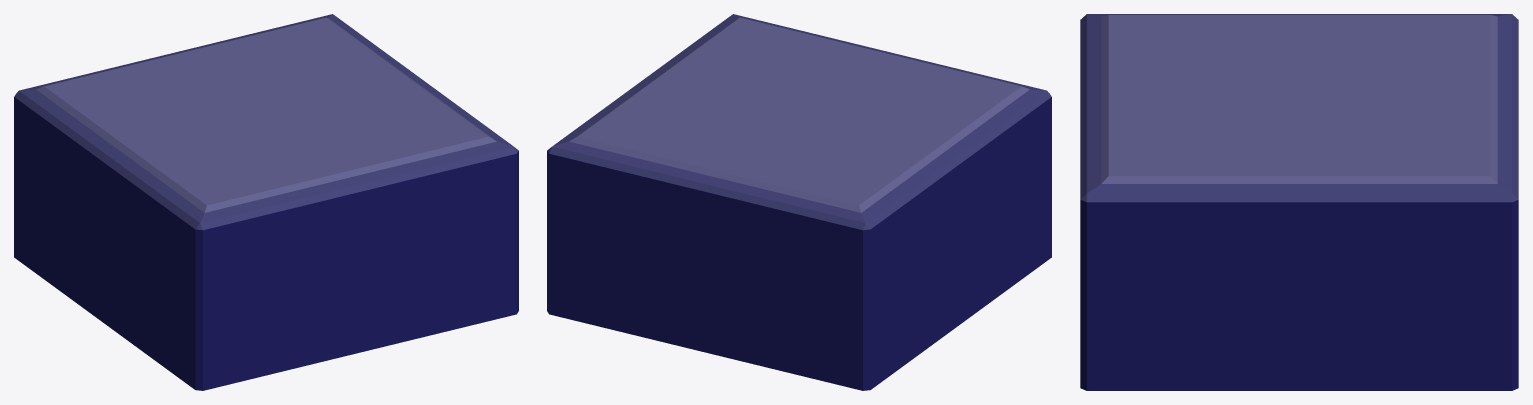
The model's file is Tile-Space-1.fbx.
3 views of the same model, side by side, from view 1: azimuth 30°, elevation 25°; view 2: azimuth 150°, elevation 25°; view 3: azimuth 270°, elevation 25° (orthographic). The views are drawn at different scales.
Visible parts, largest first — view 1: Tile01; view 2: Tile01; view 3: Tile01.
Boxes of the visible parts, box(x1,y1,x2,y2) form: Tile01: box(14, 14, 518, 390); Tile01: box(547, 14, 1051, 390); Tile01: box(1080, 14, 1518, 390).
Size of the model in its own units: 192 by 97.86 by 192.
